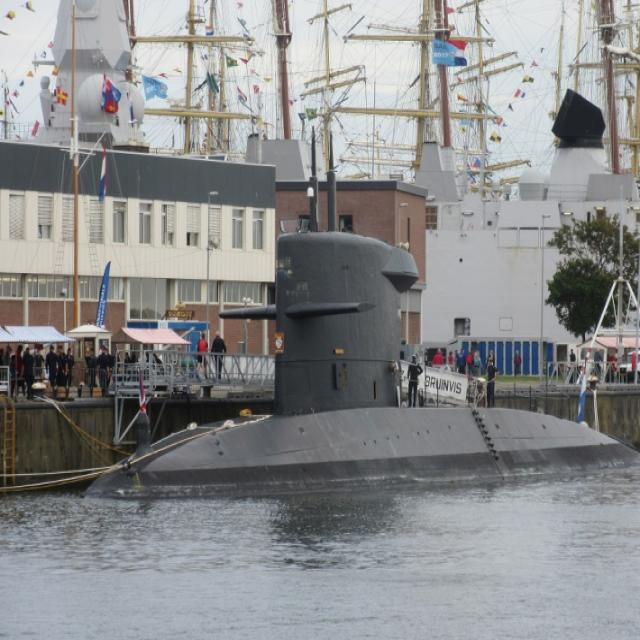submarine: (87, 121, 640, 494)
